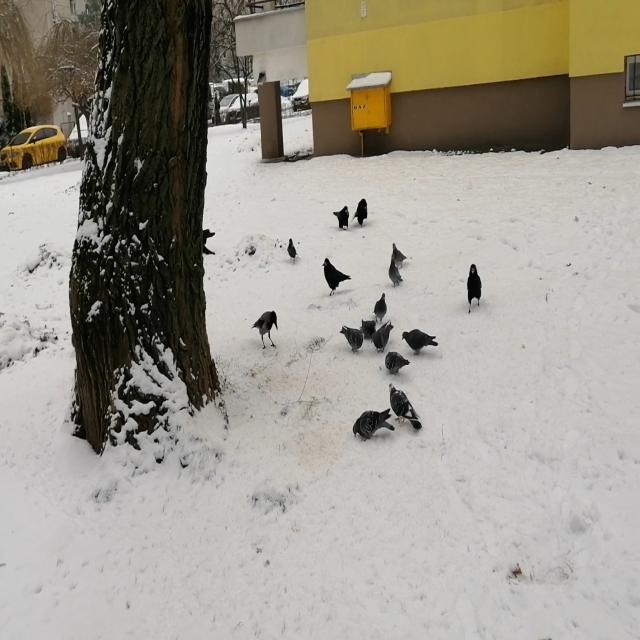bird: (389, 383, 422, 433), (354, 410, 393, 439), (322, 257, 351, 294), (253, 311, 278, 349), (402, 330, 438, 356), (466, 264, 482, 313), (341, 326, 364, 354), (371, 323, 393, 352), (386, 350, 410, 374), (388, 255, 402, 288), (334, 205, 349, 232), (373, 294, 387, 322), (354, 198, 367, 228), (392, 243, 407, 267), (287, 238, 298, 264), (362, 320, 375, 336)
